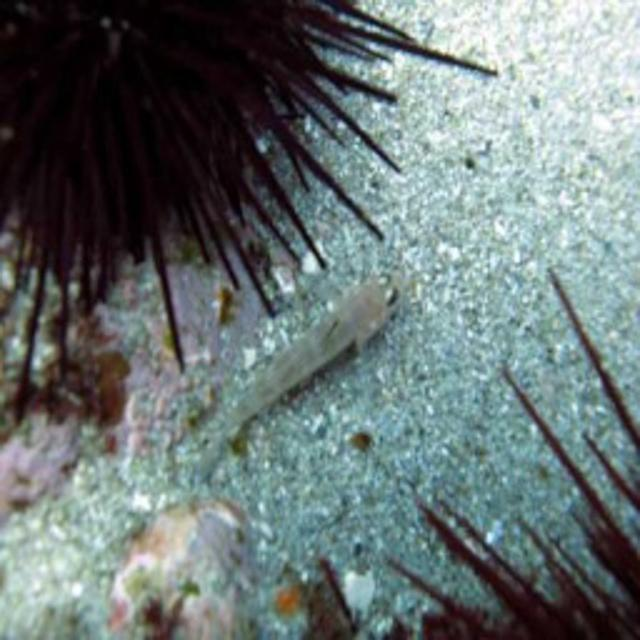Urchin: (1, 1, 485, 372)
